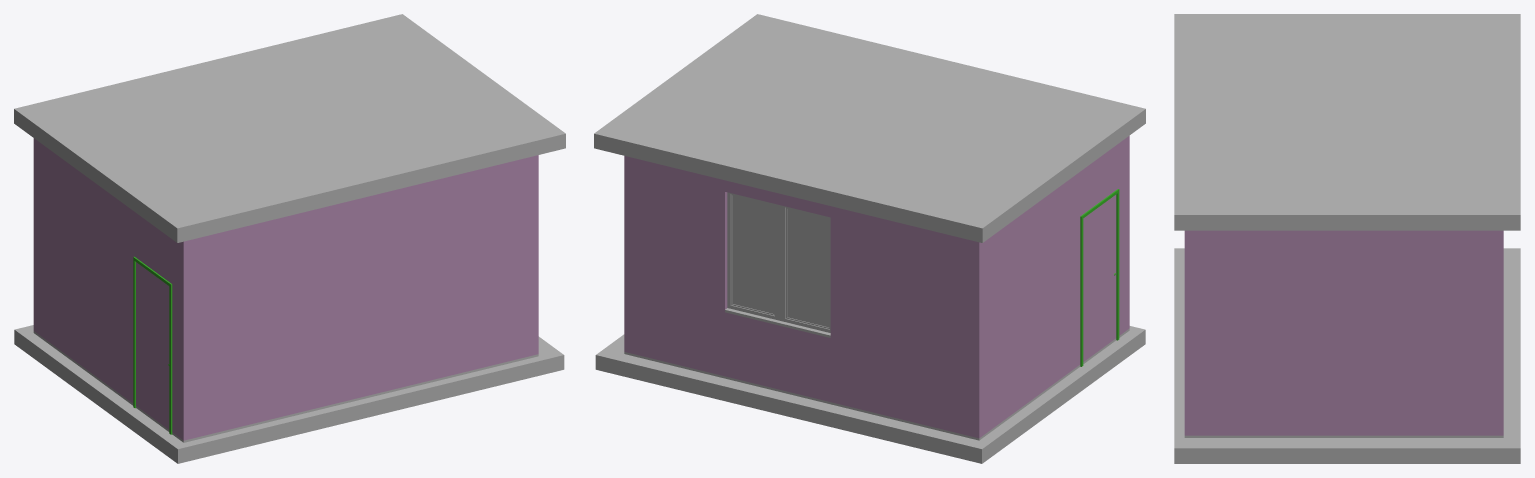
The model's file is FloorPlan306.fbx.
3 views of the same model, side by side, from view 1: azimuth 30°, elevation 25°; view 2: azimuth 150°, elevation 25°; view 3: azimuth 270°, elevation 25° (orthographic). The views are drawn at different scales.
Visible parts, largest first — view 1: StandardWallSize.003, Ceiling.003, Floor.003, StandardDoorFrame1.003; view 2: StandardWallSize.003, Ceiling.003, Floor.003, Window.007, StandardDoorFrame1.003; view 3: Ceiling.003, StandardWallSize.003, Floor.003.
Part boxes in pixels (x1=…): StandardWallSize.003: x1=33, y1=138, x2=538, y2=442; Ceiling.003: x1=14, y1=14, x2=565, y2=242; Floor.003: x1=14, y1=325, x2=564, y2=463; StandardDoorFrame1.003: x1=133, y1=256, x2=172, y2=434; StandardWallSize.003: x1=624, y1=136, x2=1129, y2=440; Ceiling.003: x1=594, y1=14, x2=1145, y2=242; Floor.003: x1=595, y1=326, x2=1145, y2=463; Window.007: x1=727, y1=192, x2=830, y2=332; StandardDoorFrame1.003: x1=1080, y1=189, x2=1119, y2=366; Ceiling.003: x1=1174, y1=14, x2=1520, y2=230; StandardWallSize.003: x1=1184, y1=230, x2=1503, y2=437; Floor.003: x1=1174, y1=248, x2=1520, y2=463.
Size of the model in its own units: 552 by 320 by 402.
